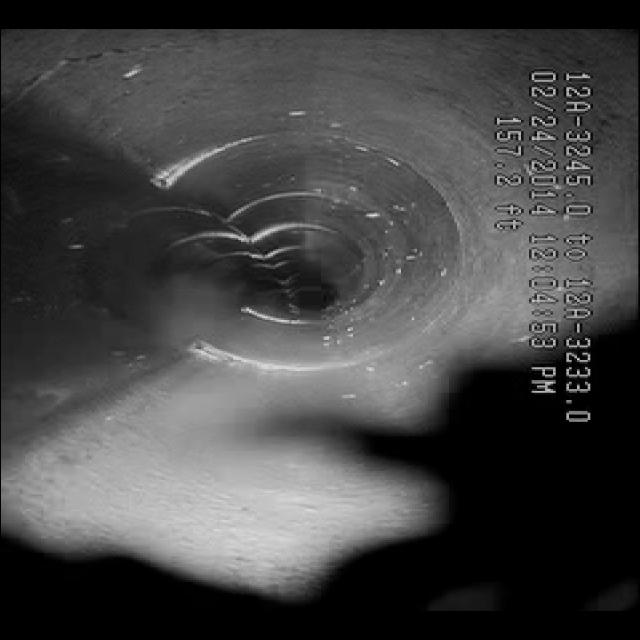Crack: (21, 34, 204, 98)
